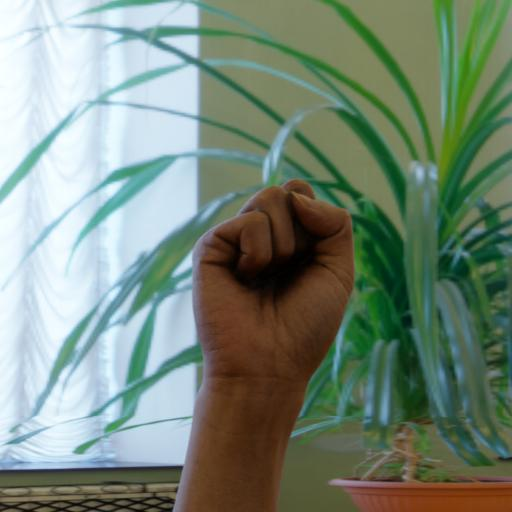S: (191, 172, 362, 402)
